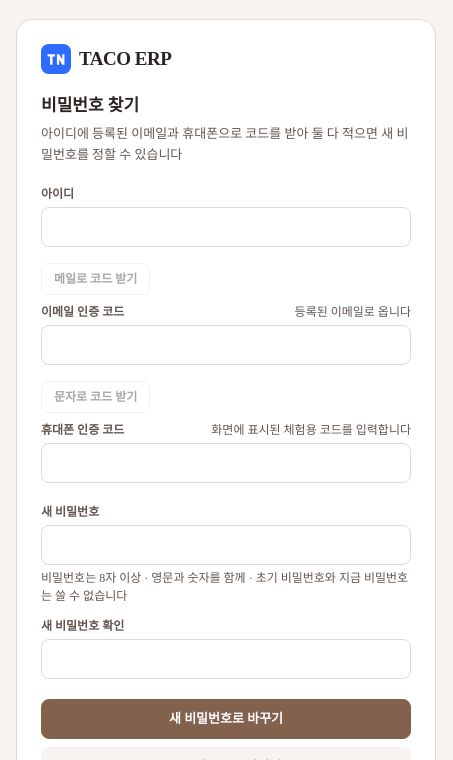
it: 비밀번호 찾기 화면 › 서버 규칙 문장 · 채널 이름을 그대로 보이고 받는 곳은 묻지 않는다 — 아이디를 적어야 코드 단추가 열린다
The width and height of the screenshot is (453, 760).
Expected: the text "비밀번호는 8자 이상 · 영문과 숫자를 함께 · 초기 비밀번호와 지금 비밀번호는 쓸 수 없습니다" is shown, [41, 569, 411, 605]
Expected: the button "메일로 코드 받기" is disabled, [41, 263, 150, 295]
Type "kim@tnacademy.kr" into the field labelled "아이디" at (226, 227), box [41, 207, 411, 247]
(page scrolled)
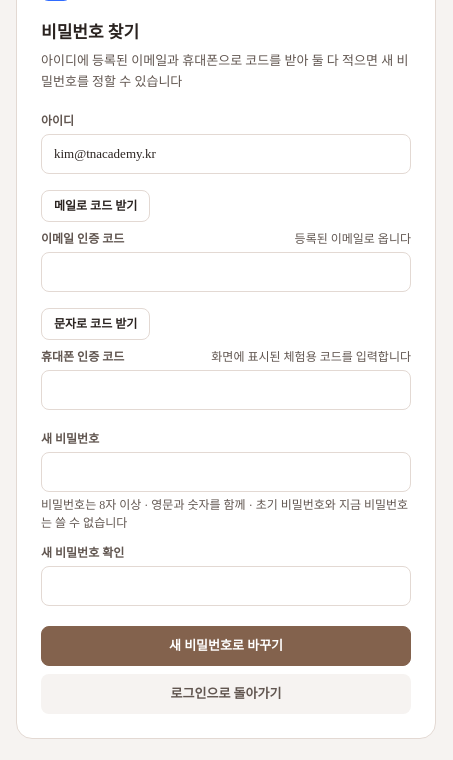
Now the button "메일로 코드 받기" is enabled, box [41, 190, 150, 222]
Now the button "문자로 코드 받기" is enabled, box [41, 308, 150, 340]
